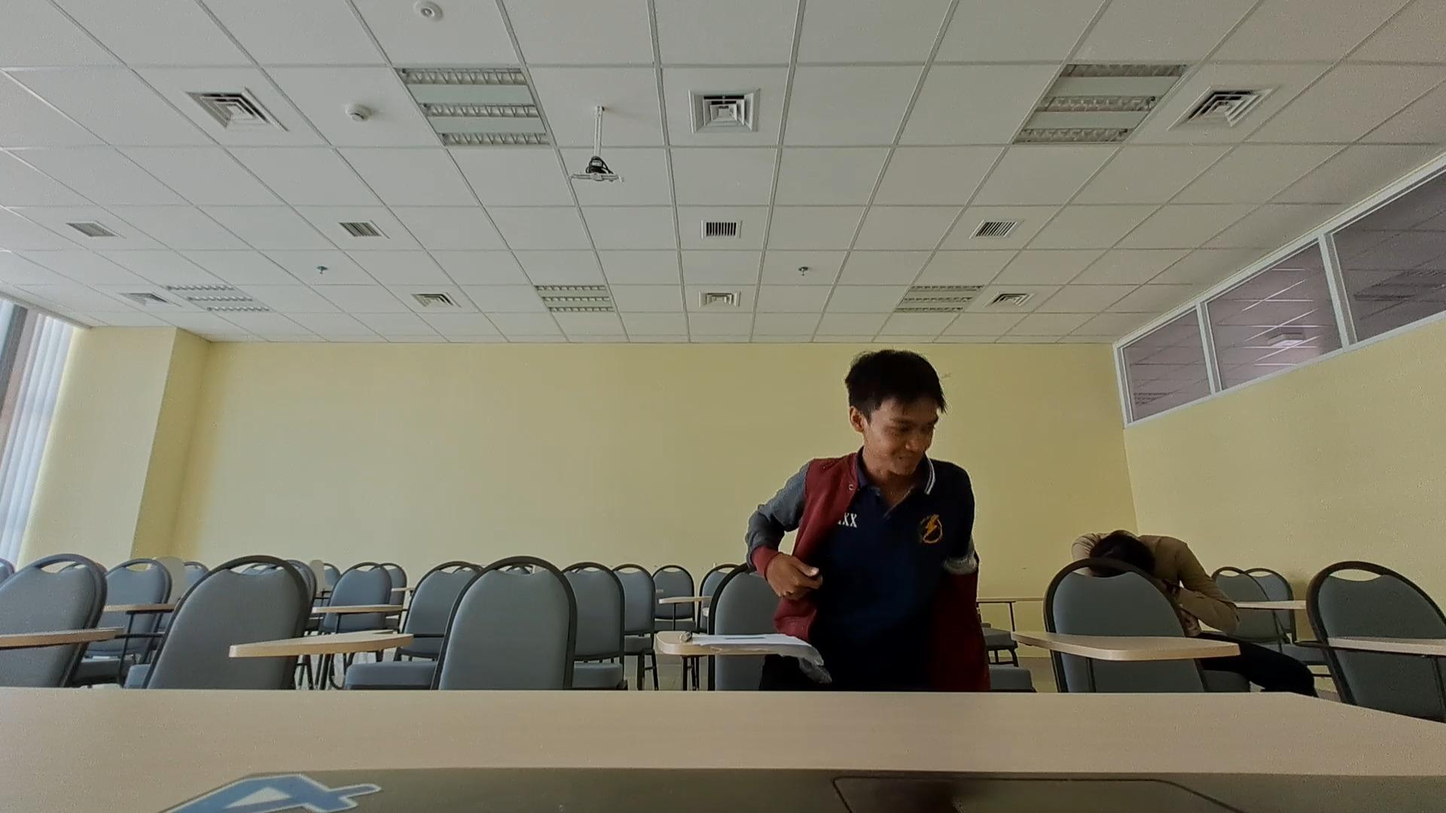sleep: (1073, 527, 1246, 642)
